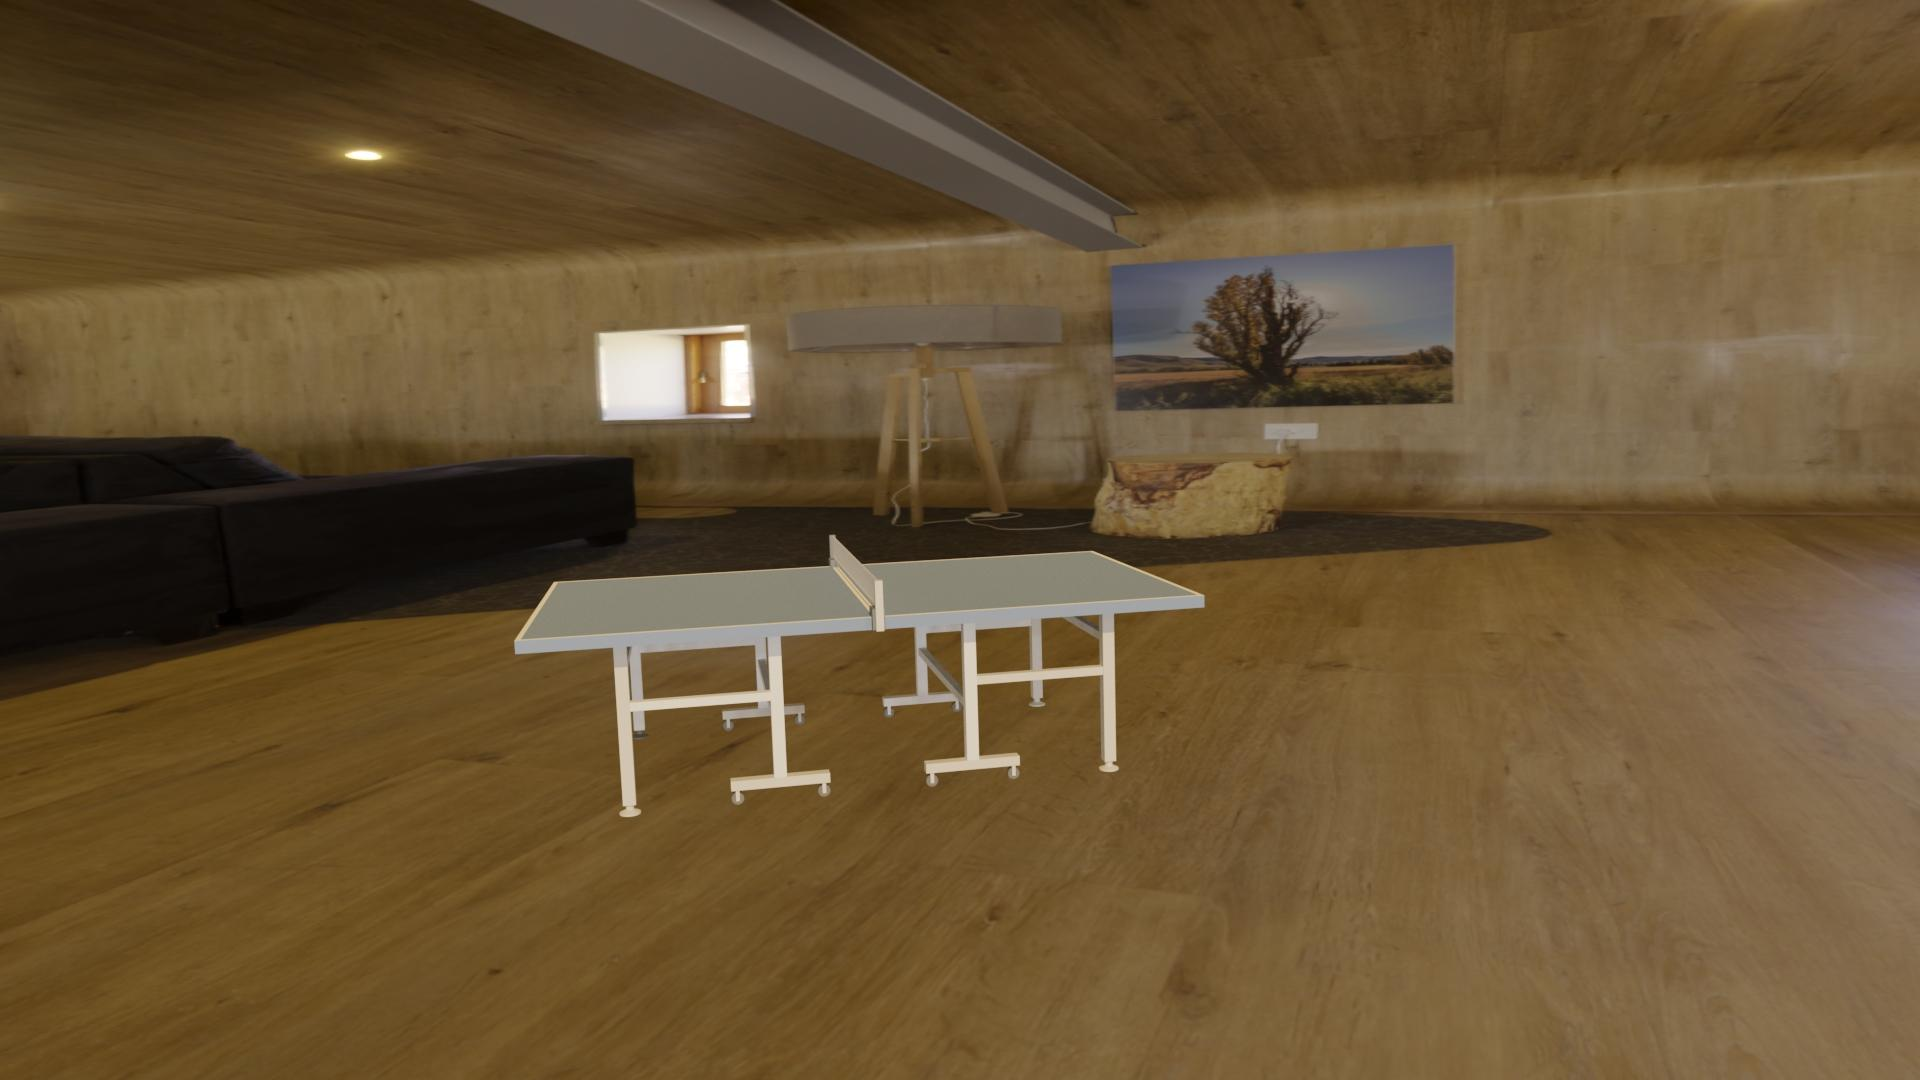table: (521, 551, 1197, 640)
